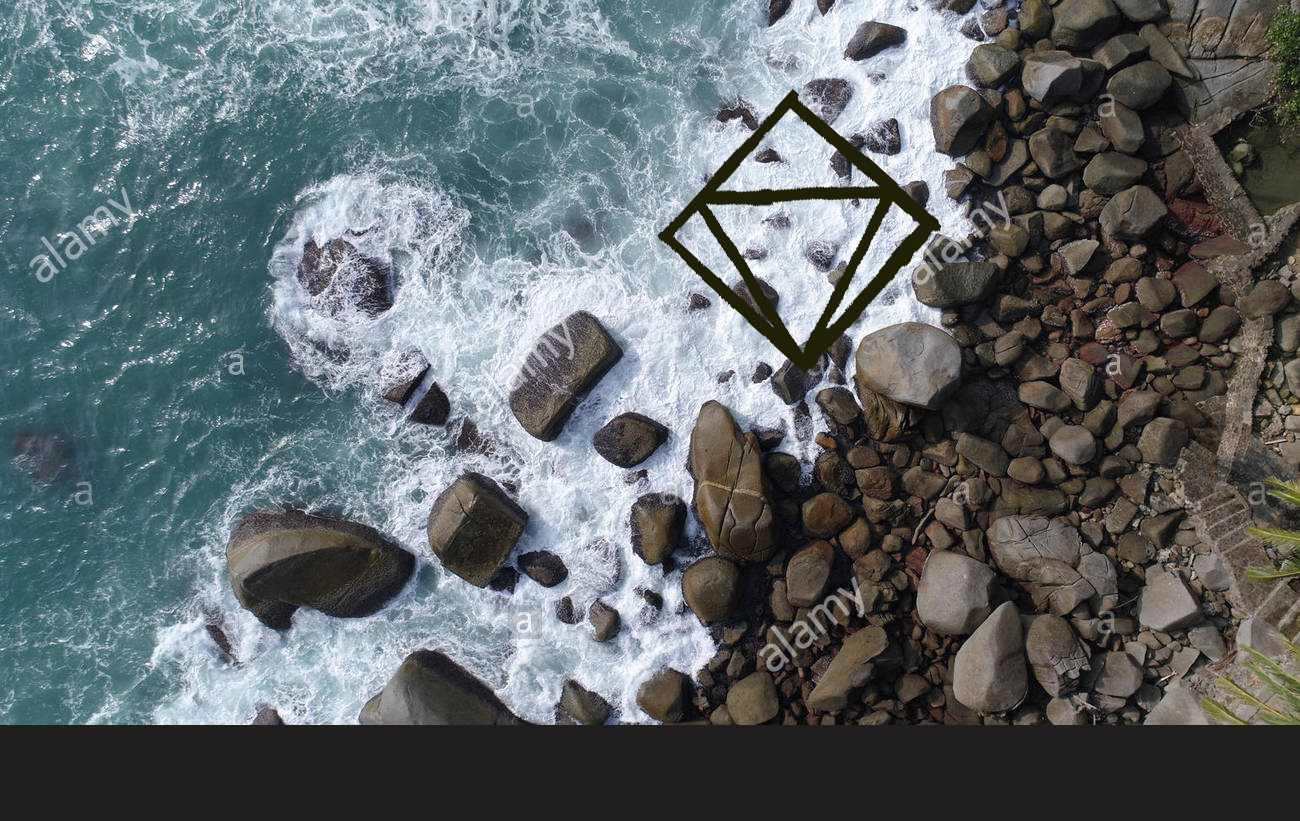marker: (653, 85, 947, 378)
